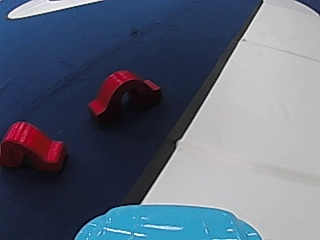bridge: (86, 65, 163, 126), (0, 119, 68, 177)
